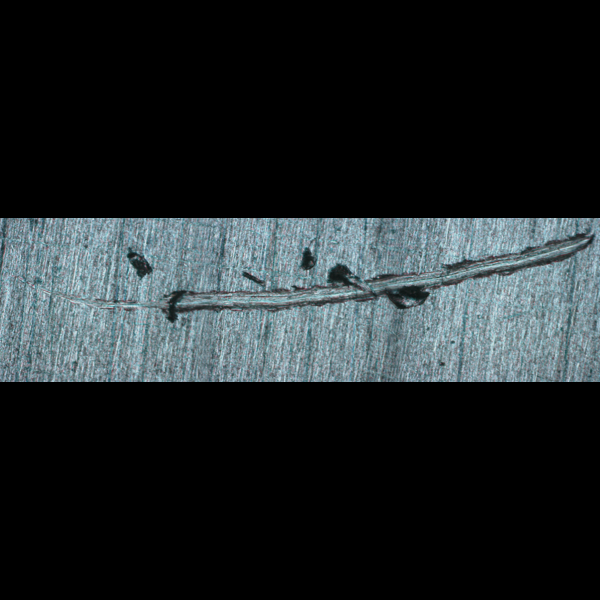d: (15, 227, 596, 326)
